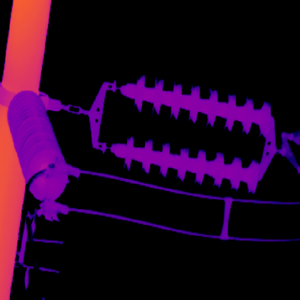insulator: (120, 75, 271, 137), (111, 137, 260, 192), (5, 87, 70, 203)
